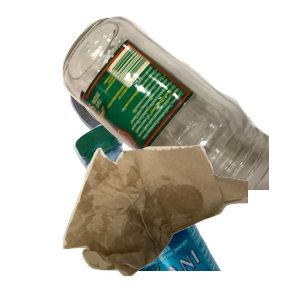glass: (60, 14, 300, 194)
metal: (68, 28, 237, 159)
plastic: (71, 120, 300, 300)
trash: (60, 142, 300, 300)
